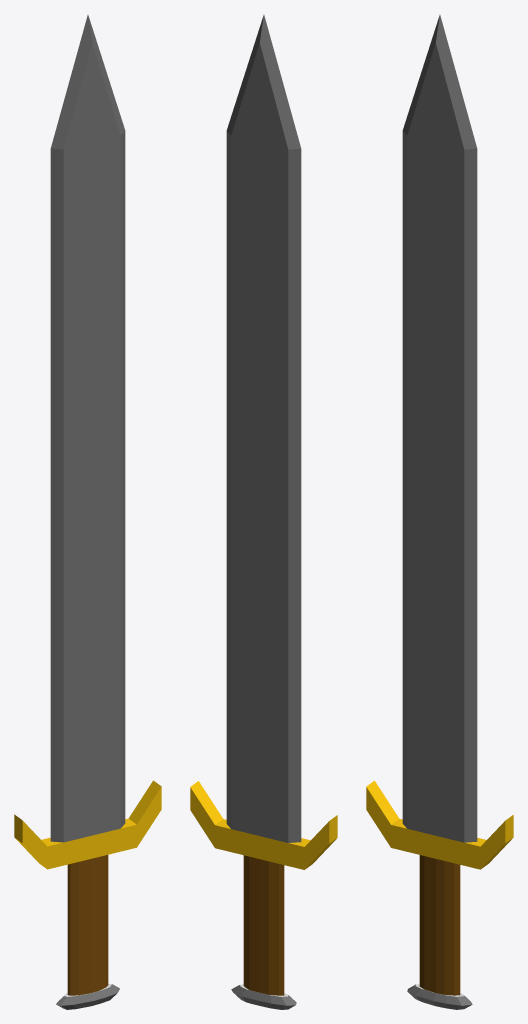
File: firstSwordAnim.fbx
3 views of the same model, side by side, from view 1: azimuth 30°, elevation 25°; view 2: azimuth 150°, elevation 25°; view 3: azimuth 330°, elevation 25° (orthographic).
Visible parts, largest first — view 1: sword; view 2: sword; view 3: sword.
Part boxes in pixels (box(x1,y1,x2,y2)): sword: box(14, 15, 161, 1009); sword: box(190, 15, 337, 1009); sword: box(366, 15, 513, 1009).
Size of the model in its own units: 0.2596 by 1.76 by 0.0353.
